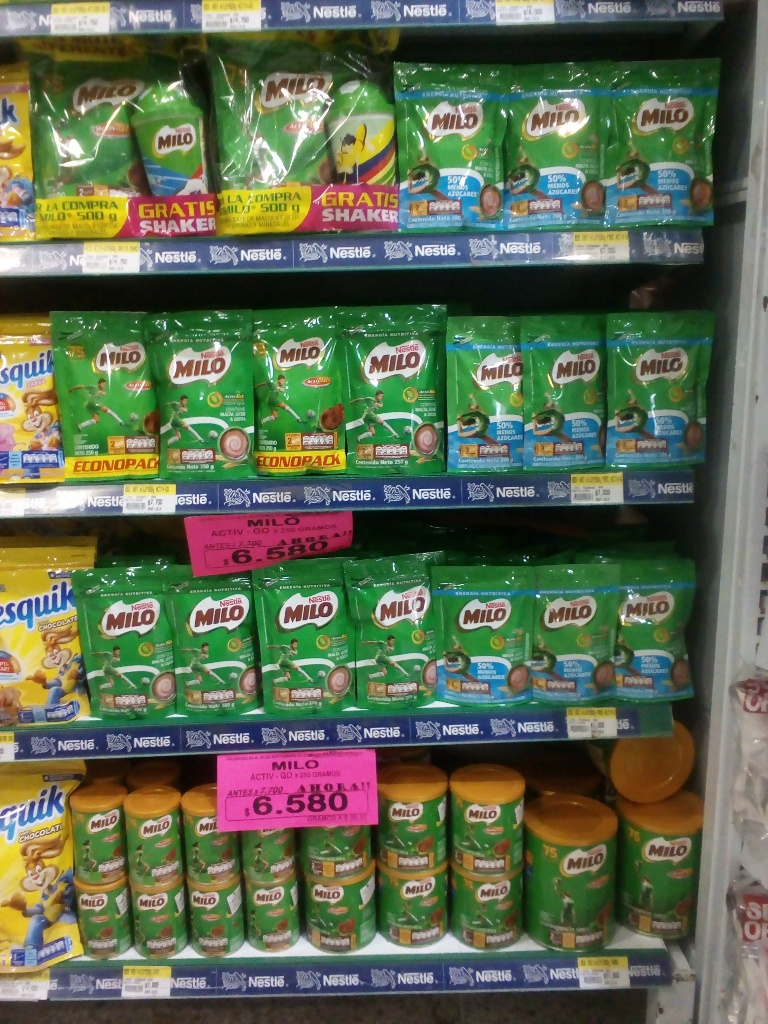COL0170203DYP25000: (337, 306, 450, 474)
COL0170203DYP50000: (24, 57, 142, 198)
COL0170203LAT20000: (65, 793, 129, 885)
COL0170203LAT40000: (448, 765, 531, 875)
COL0170205DYP20000: (392, 60, 503, 230)
COL0170305DYP20000: (1, 318, 70, 484)
